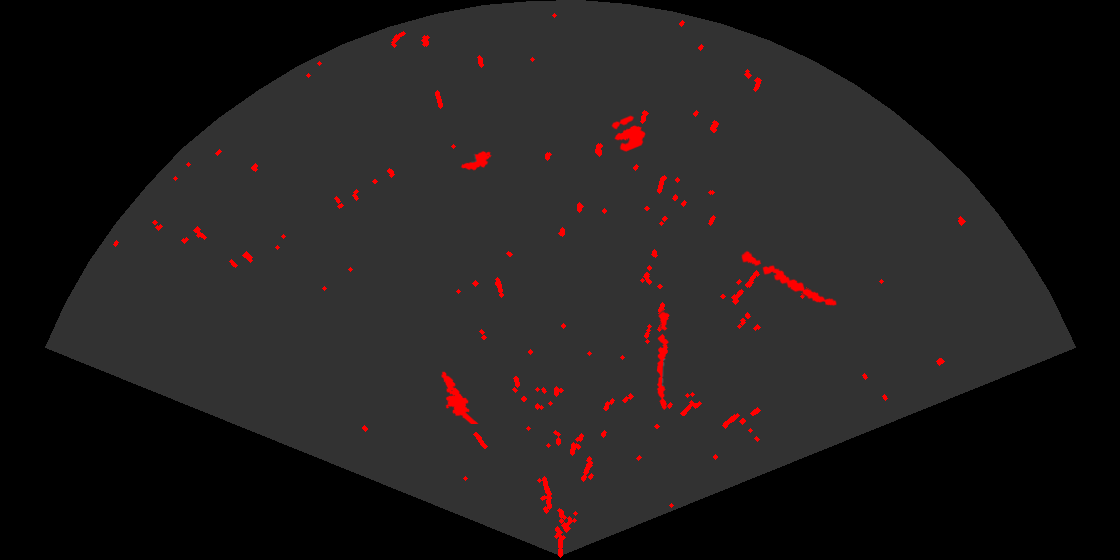AUV: (459, 150, 493, 172)
ball: (610, 114, 647, 153)
chain: (740, 249, 838, 307), (655, 309, 671, 410)
frogman: (440, 370, 480, 424)
